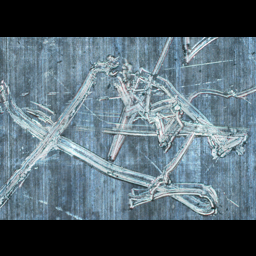d: (0, 60, 119, 196), (92, 53, 195, 156), (120, 166, 225, 216), (191, 118, 252, 163), (184, 84, 255, 112), (173, 36, 224, 70)
